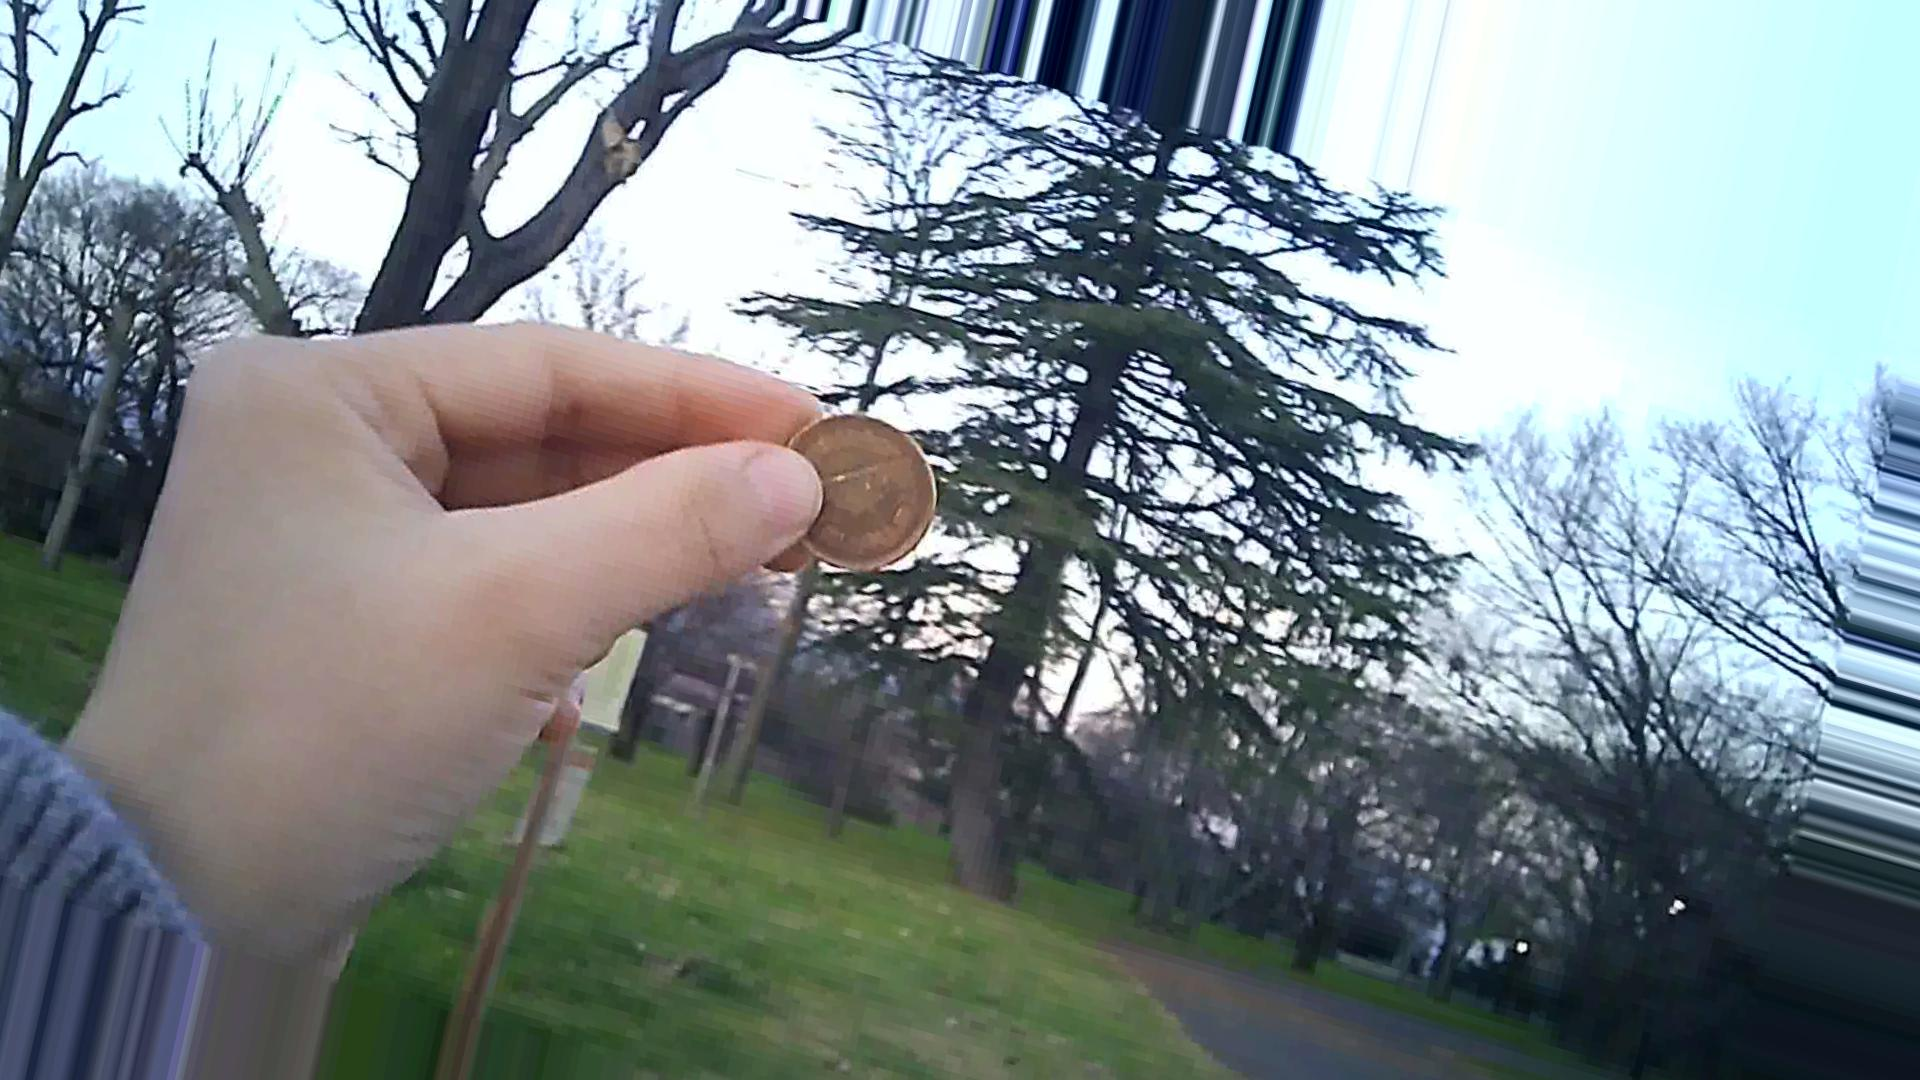10 Yen: (778, 398, 942, 582)
